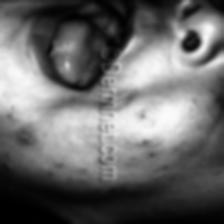Non-Cancerous Skin Condition: (128, 102, 170, 182), (0, 104, 42, 154), (43, 156, 92, 196), (0, 0, 7, 16)
